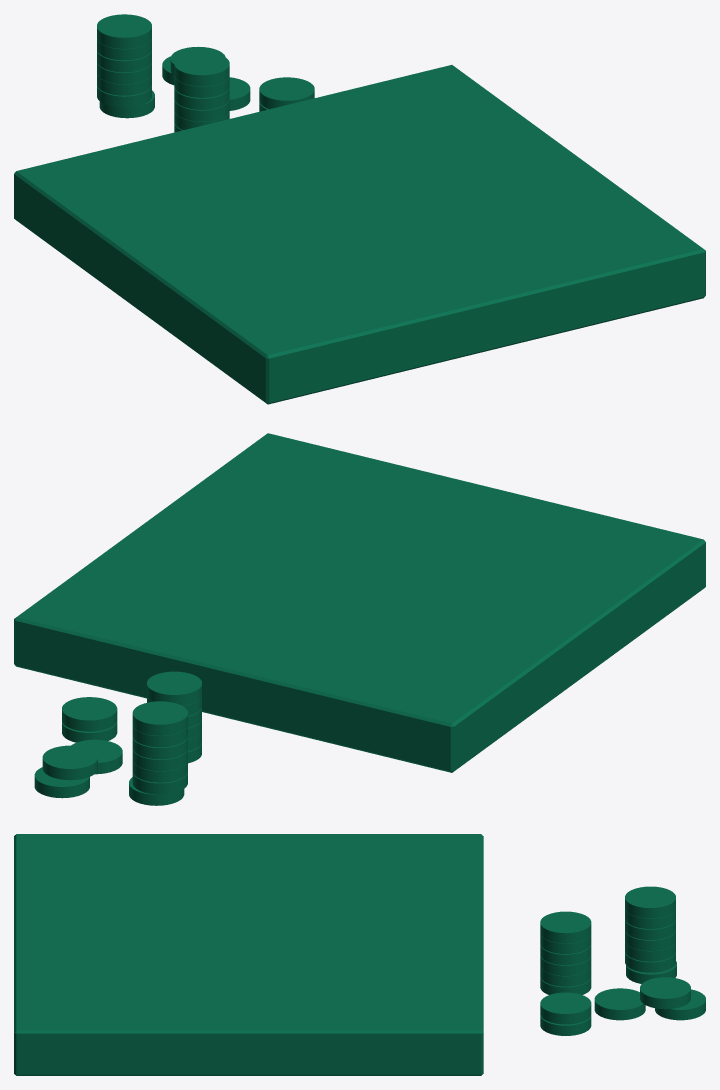
File: gameboard.obj
The picture shows the model from 3 angles, top to bottom: view 1: azimuth 30°, elevation 25°; view 2: azimuth 150°, elevation 25°; view 3: azimuth 270°, elevation 25°; orthographic projection. The views are drawn at different scales.
Visible parts, largest first — view 1: gameboard:polySurface471; view 2: gameboard:polySurface471; view 3: gameboard:polySurface471.
Part boxes in pixels (x1,y1,x2,y2): gameboard:polySurface471: [14, 14, 705, 404]; gameboard:polySurface471: [14, 433, 705, 805]; gameboard:polySurface471: [14, 834, 705, 1075].
Size of the model in its own units: 1.17 by 0.2071 by 1.72.
